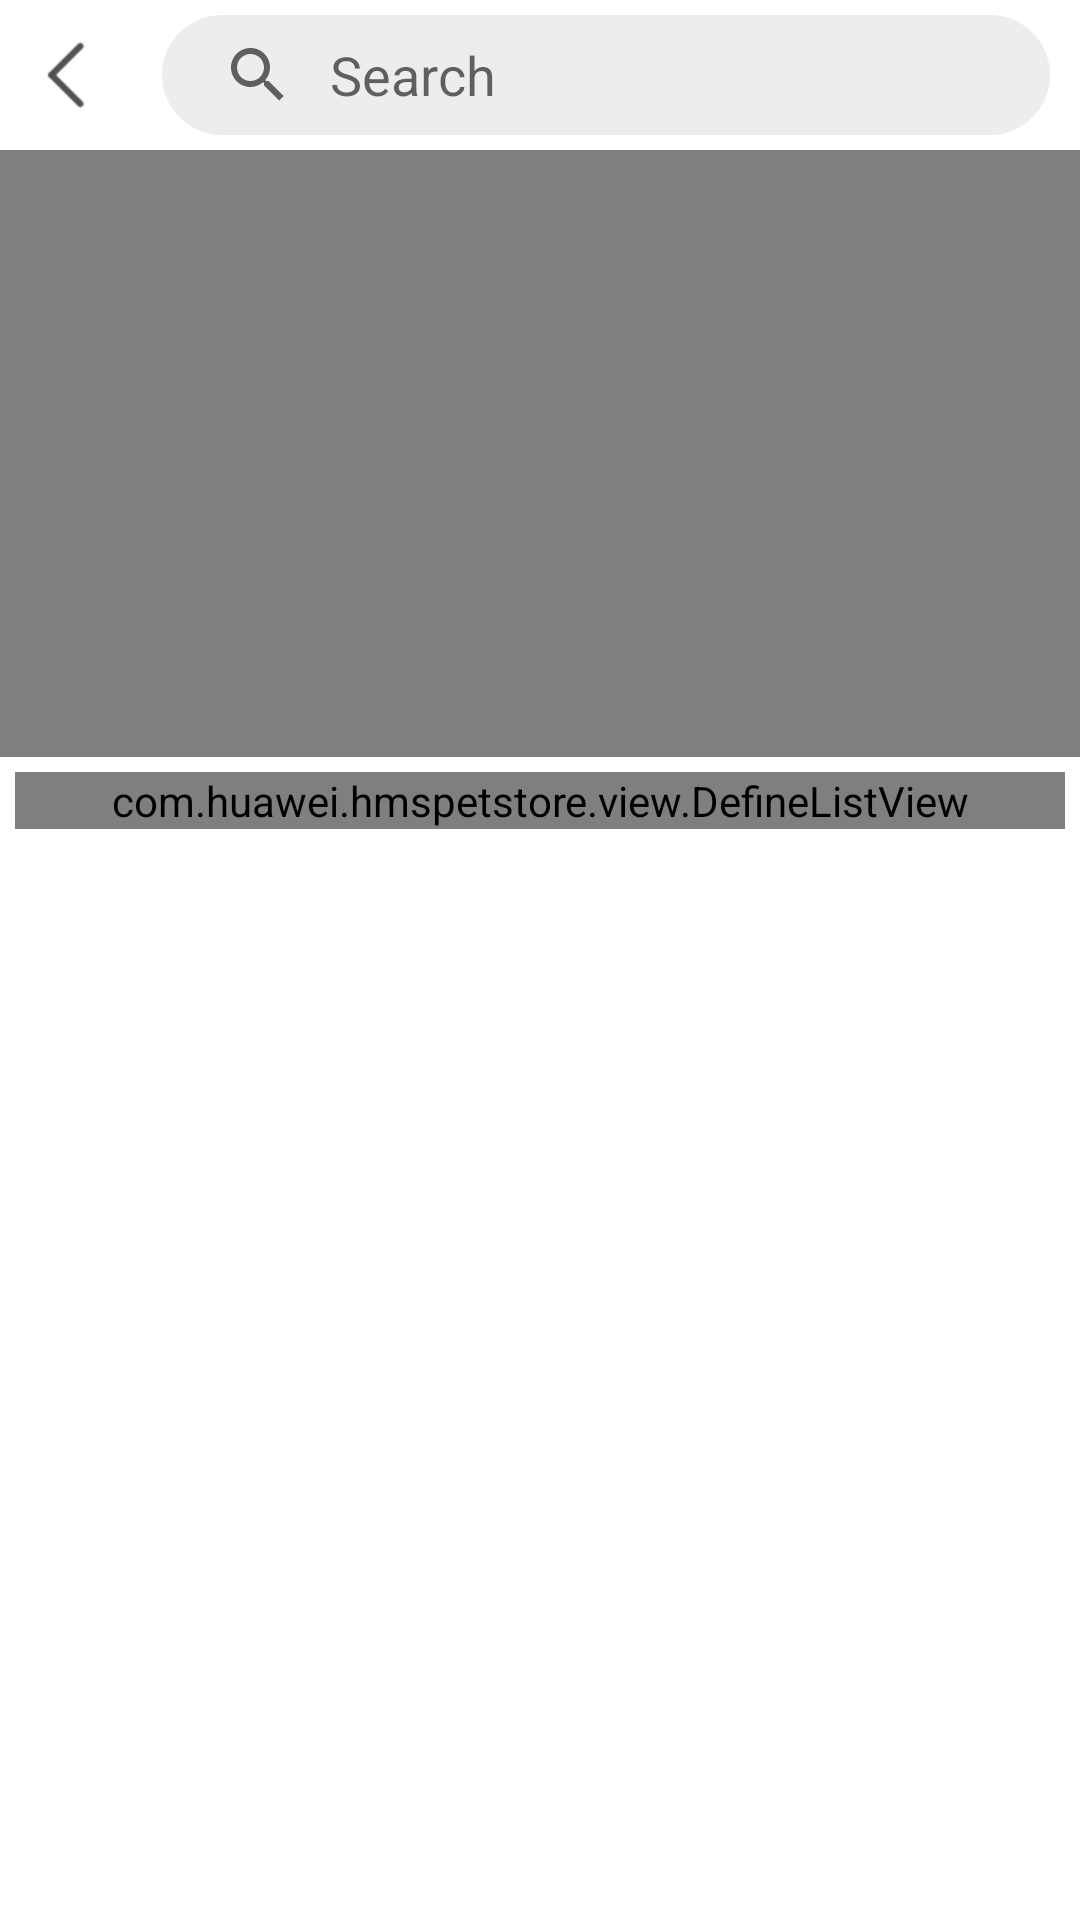

Named icons in this screenshot (1080 × 1920) and their centers, point (x, y):
back: point (65, 75)
